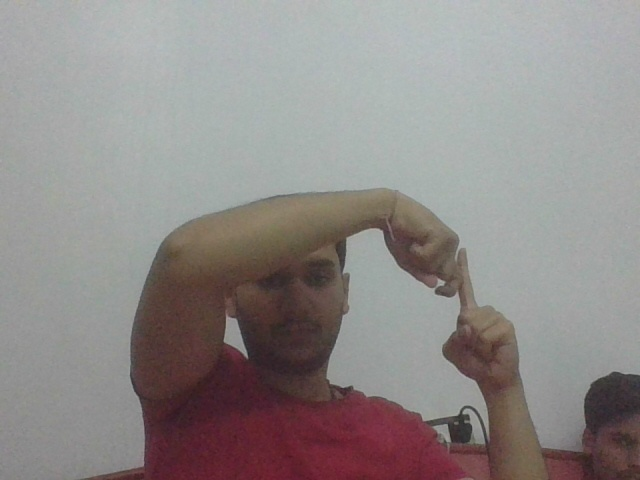K: (429, 245, 496, 322)
